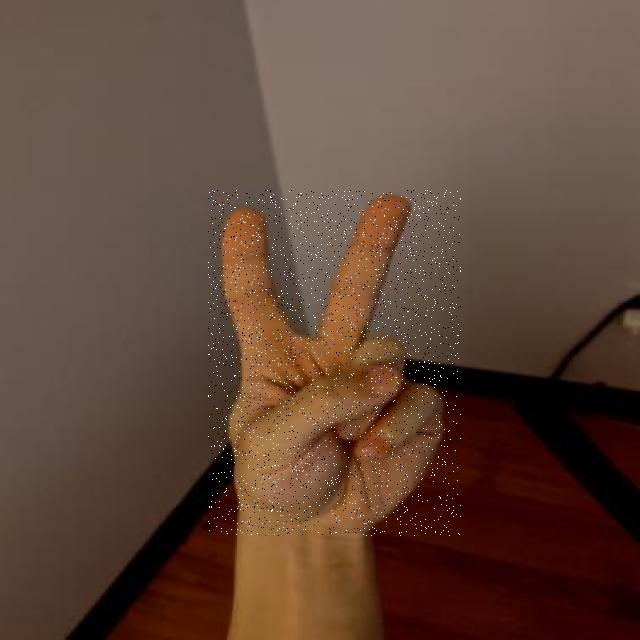V: (208, 190, 461, 536)
